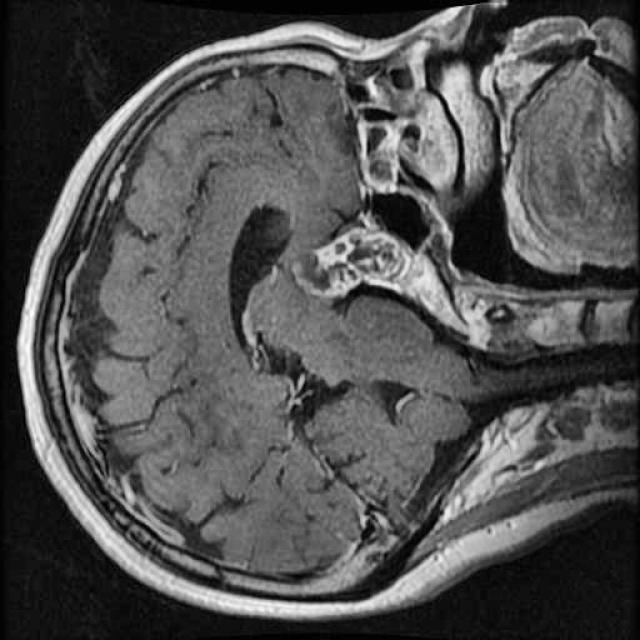Tumor: (281, 205, 424, 318)
